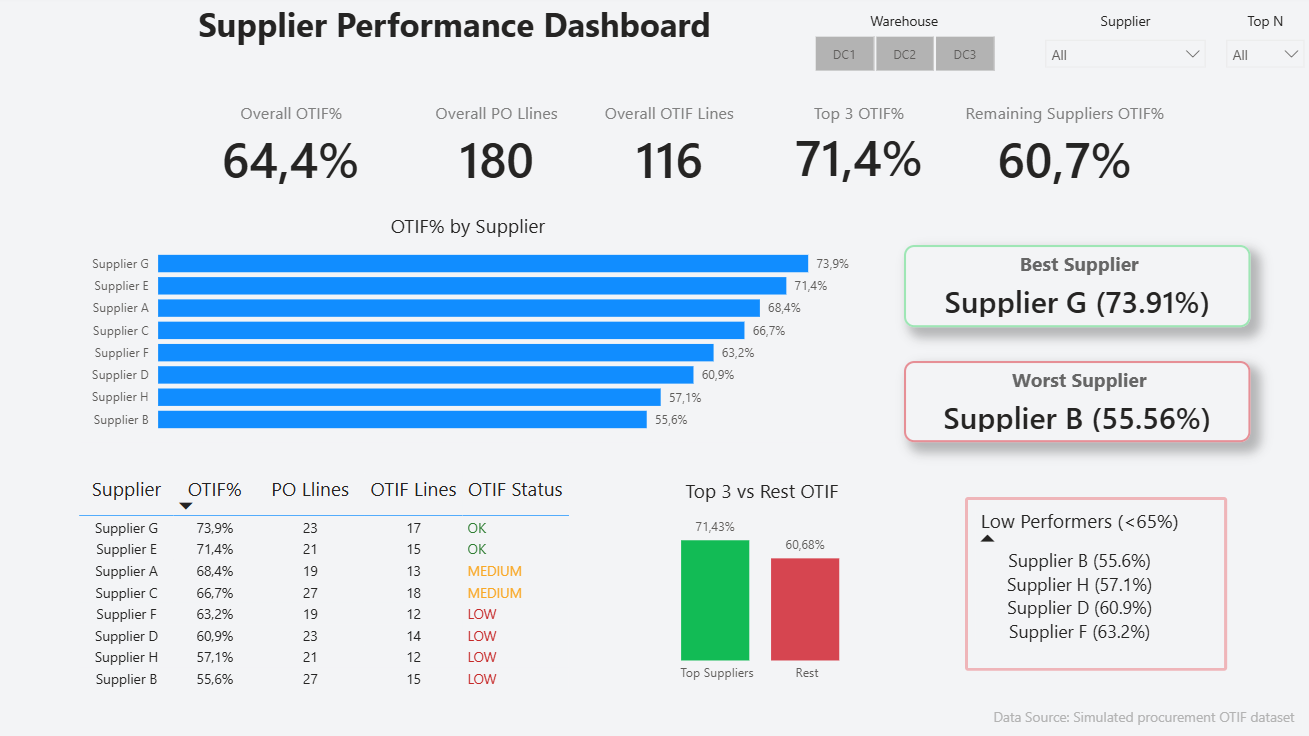

Layout of this report page (visuals, bound fields, positions):
{"tool":"powerbi","page":{"name":"Executive Summary","canvas":[1280,720],"ordinal":0},"visuals":[{"type":"slicer","title":"Supplier","fields":{"Values":["fact_supplier_deliveries.Supplier"]},"box":[1008,16,176,64],"z":0},{"type":"clusteredBarChart","fields":{"Category":["dim_supplier.Supplier"],"Y":["Measures#.OTIF%"]},"box":[79.8,210.1,752.8,224.3],"z":1000},{"type":"cardVisual","title":"Best Supplier","fields":{"Data":["Measures#.Best Supplier"]},"box":[880,242,337,80],"z":2000},{"type":"tableEx","fields":{"Values":["dim_supplier.Supplier","Measures#.OTIF%","Measures#.PO Llines","Measures#.OTIF Lines","Measures#.OTIF Status"]},"box":[71.8,459.3,493.9,252.7],"z":3000},{"type":"tableEx","fields":{"Values":["Measures#.Low OTIF Supplier list"]},"box":[940,487,255,169],"z":4000},{"type":"clusteredColumnChart","fields":{"Category":["Group Table.Group"],"Y":["Measures#.OTIF by Group"]},"box":[580.1,467.6,325,208.5],"z":5000},{"type":"cardVisual","title":"Overall PO Llines","fields":{"Data":["Measures#.PO Llines"]},"box":[388.2,103.3,192,80],"z":6000},{"type":"cardVisual","title":"Overall OTIF Lines","fields":{"Data":["Measures#.OTIF Lines"]},"box":[564.2,103.3,176,80],"z":7000},{"type":"cardVisual","fields":{"Data":["Measures#.OTIF% (TOP3)"]},"box":[724.2,103.3,224,80],"z":8000},{"type":"cardVisual","title":"Remaining Suppliers OTIF%","fields":{"Data":["Measures#.Rest OTIF%"]},"box":[933,103,208,80],"z":9000},{"type":"cardVisual","title":"Overall OTIF%","fields":{"Data":["Measures#.OTIF%"]},"box":[164.2,103.3,240,80],"z":10000},{"type":"textbox","box":[188.3,0,536.7,80],"z":11000},{"type":"slicer","title":"Top N","fields":{"Values":["Top N Table.Value"]},"box":[1184,16,96,64],"z":12000},{"type":"slicer","title":"Warehouse","fields":{"Values":["fact_supplier_deliveries.Plant"]},"box":[768,16,224,64],"z":13000},{"type":"cardVisual","title":"Worst Supplier","fields":{"Data":["Measures#.Worst Supplier"]},"box":[880,355,337,79],"z":14000},{"type":"textbox","box":[962,687,306,33],"z":15000}]}

Visuals, with their boxes in screenshot pixels (x1, y1, x2, y2), scaled from the page's 1280x720 canvas onto the 1309x736 screenshot:
"Supplier" slicer: {"left": 1031, "top": 16, "right": 1211, "bottom": 82}
clusteredBarChart - dim_supplier.Supplier x Measures#.OTIF%: {"left": 82, "top": 215, "right": 851, "bottom": 444}
"Best Supplier" cardVisual: {"left": 900, "top": 247, "right": 1245, "bottom": 329}
tableEx - dim_supplier.Supplier x Measures#.OTIF%: {"left": 73, "top": 470, "right": 579, "bottom": 728}
tableEx - Measures#.Low OTIF Supplier list: {"left": 961, "top": 498, "right": 1222, "bottom": 671}
clusteredColumnChart - Group Table.Group x Measures#.OTIF by Group: {"left": 593, "top": 478, "right": 926, "bottom": 691}
"Overall PO Llines" cardVisual: {"left": 397, "top": 106, "right": 593, "bottom": 187}
"Overall OTIF Lines" cardVisual: {"left": 577, "top": 106, "right": 757, "bottom": 187}
cardVisual - Measures#.OTIF% (TOP3): {"left": 741, "top": 106, "right": 970, "bottom": 187}
"Remaining Suppliers OTIF%" cardVisual: {"left": 954, "top": 105, "right": 1167, "bottom": 187}
"Overall OTIF%" cardVisual: {"left": 168, "top": 106, "right": 413, "bottom": 187}
textbox: {"left": 193, "top": 0, "right": 741, "bottom": 82}
"Top N" slicer: {"left": 1211, "top": 16, "right": 1308, "bottom": 82}
"Warehouse" slicer: {"left": 785, "top": 16, "right": 1014, "bottom": 82}
"Worst Supplier" cardVisual: {"left": 900, "top": 363, "right": 1245, "bottom": 444}
textbox: {"left": 984, "top": 702, "right": 1297, "bottom": 735}
